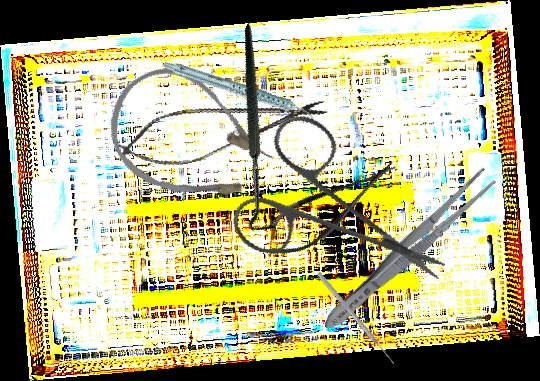Cannula: (89, 49, 289, 231)
Dressing Forceps: (316, 163, 500, 338)
Handpiece: (161, 31, 319, 153)
Hook Surgical: (169, 22, 349, 239)
Iris Scissors: (209, 88, 449, 329)
Micro Scissor: (109, 78, 334, 179), (247, 146, 409, 272)
Pusher: (315, 271, 397, 366)
